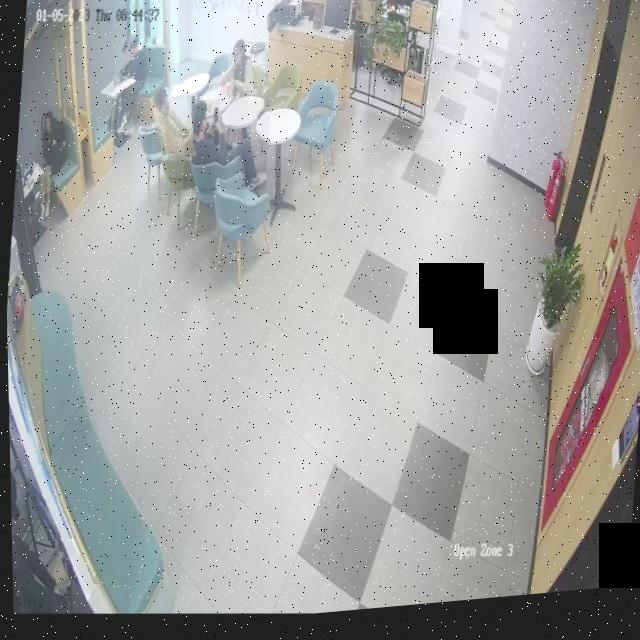person: (179, 97, 272, 201), (27, 105, 73, 229), (107, 34, 154, 141), (148, 84, 197, 166), (218, 40, 259, 102)
